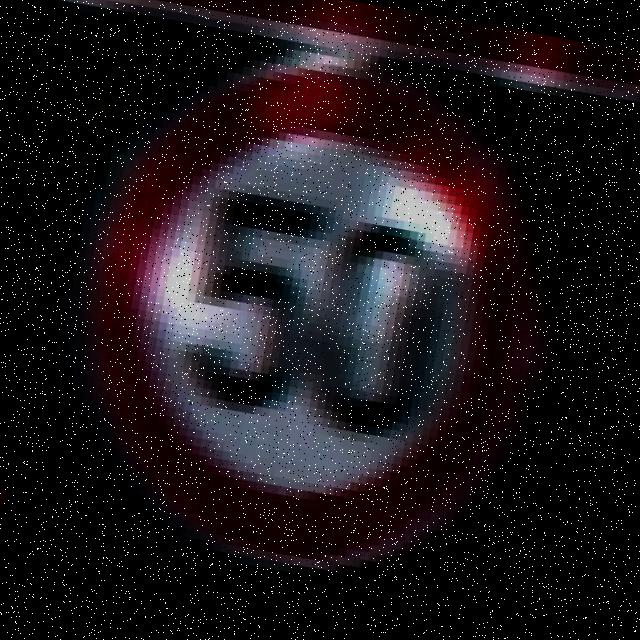Ograniczenie predkosci do 50: (44, 32, 561, 598)
